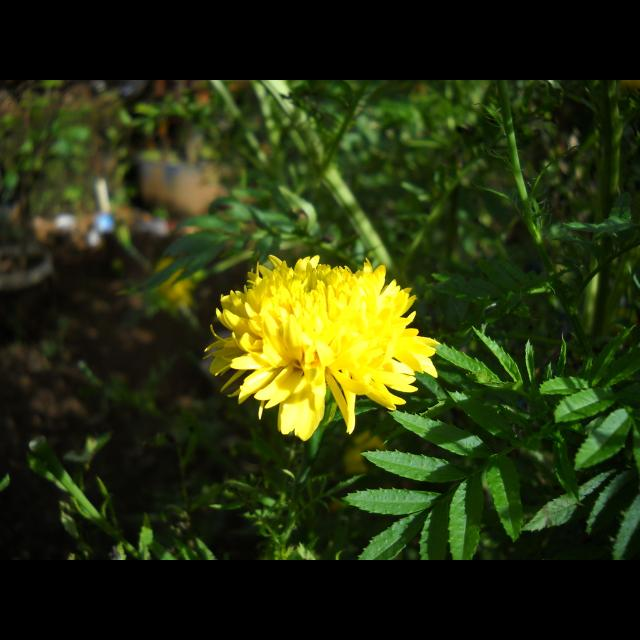Flower: (204, 251, 441, 447)
